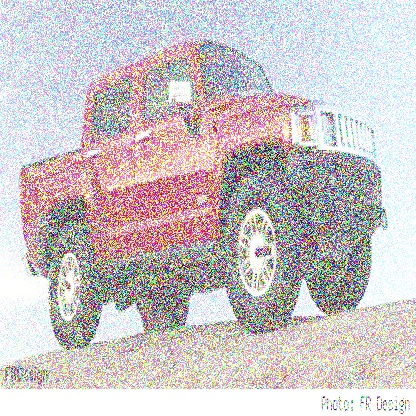Vehicle: (20, 40, 390, 356)
